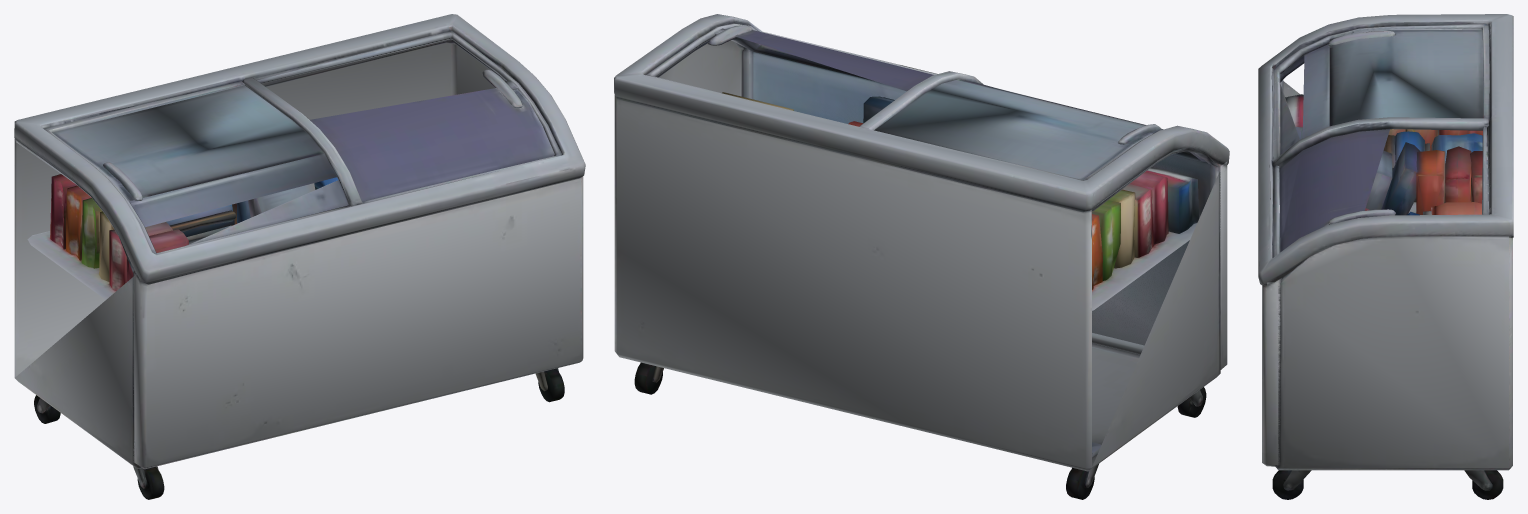
The model's file is freezer.glb.
3 views of the same model, side by side, from view 1: azimuth 30°, elevation 25°; view 2: azimuth 150°, elevation 25°; view 3: azimuth 270°, elevation 25° (orthographic). The views are drawn at different scales.
Parts seen in each view (by area): view 1: Freezer horizontal; view 2: Freezer horizontal; view 3: Freezer horizontal.
Boxes of the visible parts, box(x1,y1,x2,y2) form: Freezer horizontal: box(14, 14, 585, 499); Freezer horizontal: box(614, 14, 1229, 499); Freezer horizontal: box(1258, 14, 1513, 499).
Bounding box in the file's own units: 0.998 × 0.6387 × 0.5176.
1 material, 1 textured.
